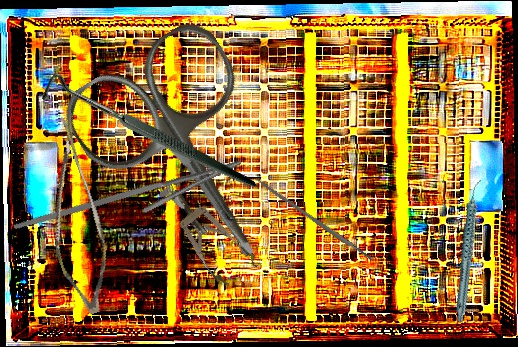Handpiece: (427, 178, 511, 323)
Hook Surgical: (34, 14, 258, 260)
Iris Scissors: (54, 13, 323, 300)
Micro Scissor: (13, 109, 136, 319)
Needle Holder: (12, 132, 250, 274)
Scalpel Handle: (255, 177, 374, 263)
Speculum: (157, 176, 261, 292)
